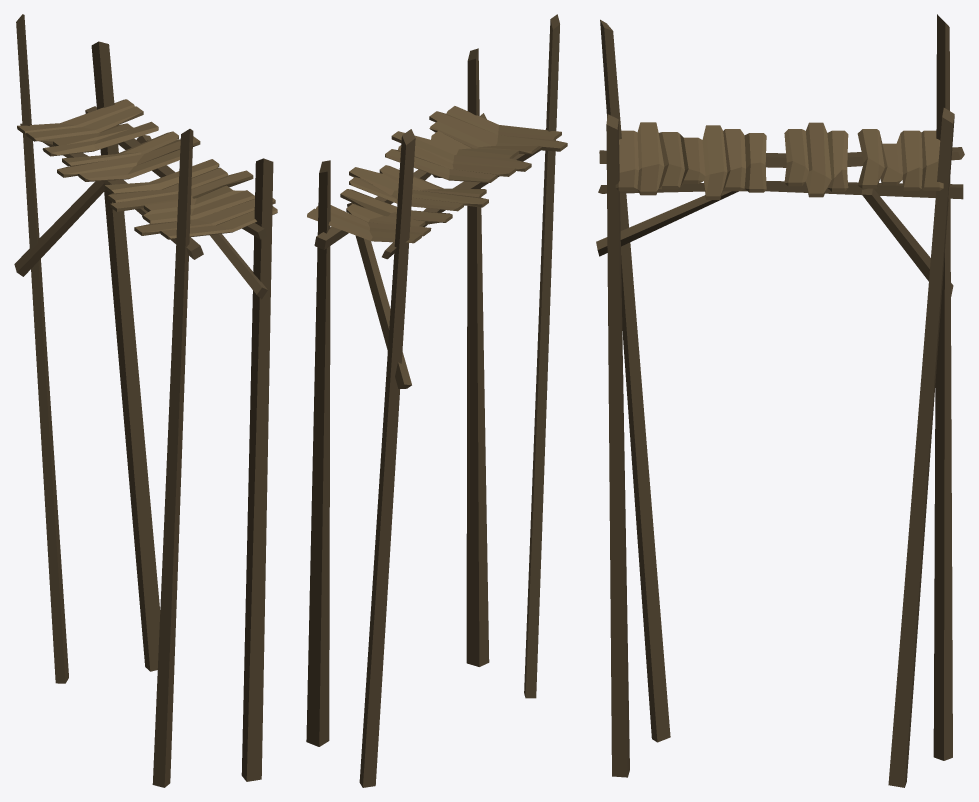
The model's file is SM_Bld_Rickety_Dock_01.glb.
3 renders of one model, left to right at view 1: azimuth 30°, elevation 25°; view 2: azimuth 150°, elevation 25°; view 3: azimuth 270°, elevation 25°, orthographic. The views are drawn at different scales.
Visible parts, largest first — view 1: SM_Bld_Rickety_Dock_01; view 2: SM_Bld_Rickety_Dock_01; view 3: SM_Bld_Rickety_Dock_01.
Boxes of the visible parts, <box> form: SM_Bld_Rickety_Dock_01: <box>14,14,277,787</box>; SM_Bld_Rickety_Dock_01: <box>306,14,567,787</box>; SM_Bld_Rickety_Dock_01: <box>596,14,964,787</box>.
Size of the model in its own units: 0.0191 by 0.0867 by 0.0401.
